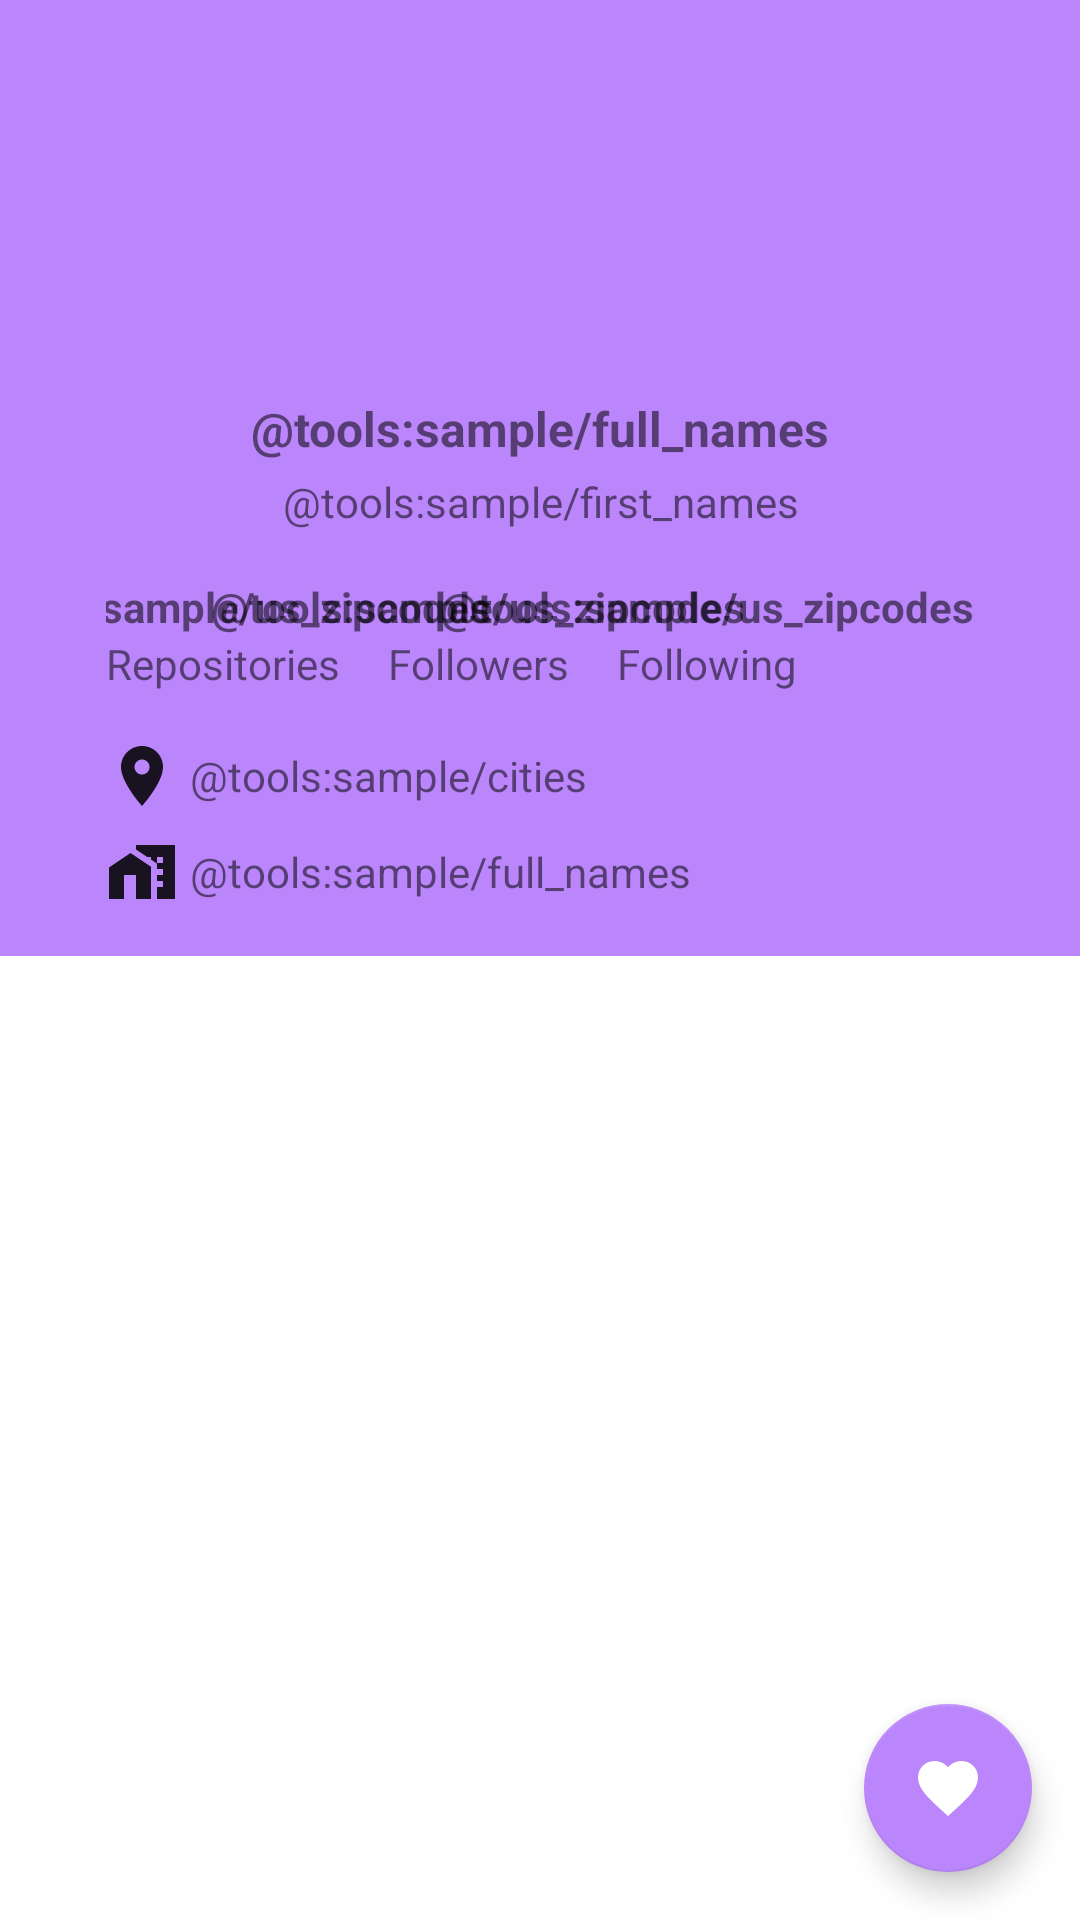

Where to tap for icons on this 1080×1920 app screen, as point (x, y):
Favorite: point (948, 1788)
